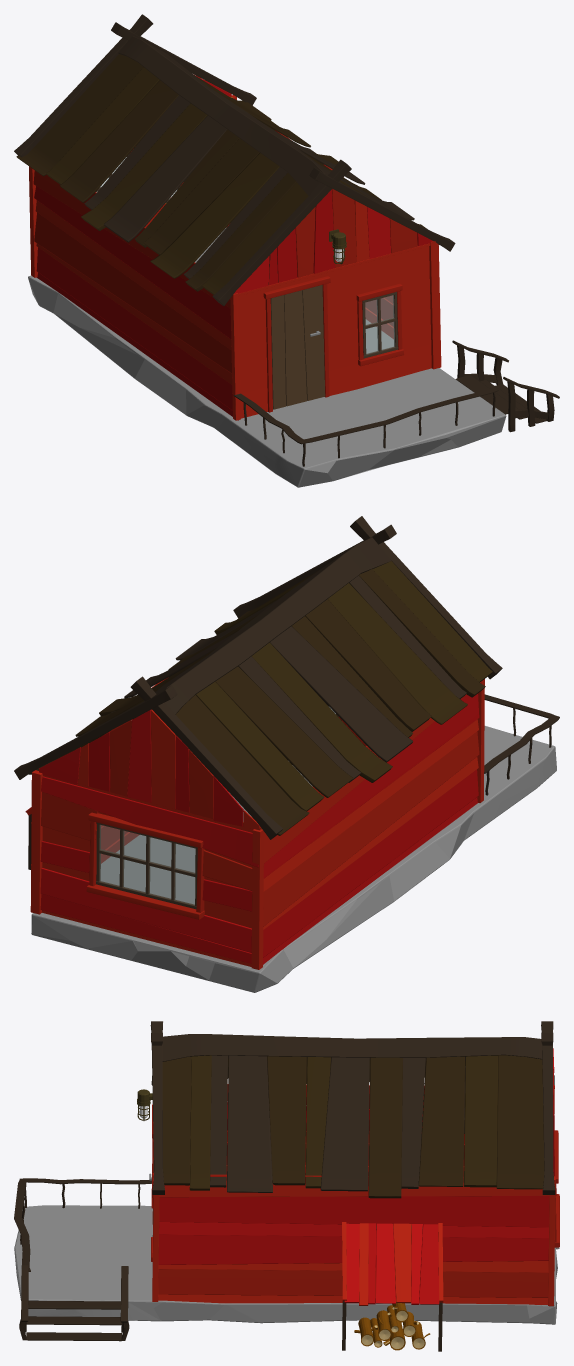
File: Cabin_v002.fbx
3 renders of one model, top to bottom at view 1: azimuth 30°, elevation 25°; view 2: azimuth 150°, elevation 25°; view 3: azimuth 270°, elevation 25°, orthographic. The views are drawn at different scales.
Parts seen in each view (by area): view 1: Roof, Walls, Ground_Floor, Door4, Window2; view 2: Walls, Roof, Ground_Floor, Window3; view 3: Roof, Walls, Ground_Floor, PileOfWood.
Part boxes in pixels (x1,y1,x2,y2): Roof: [14, 14, 455, 305]; Walls: [29, 75, 441, 420]; Ground_Floor: [28, 227, 559, 487]; Door4: [270, 285, 325, 409]; Window2: [362, 292, 398, 358]; Walls: [25, 677, 484, 969]; Roof: [14, 516, 502, 839]; Ground_Floor: [31, 694, 559, 992]; Window3: [96, 822, 197, 909]; Roof: [150, 1021, 555, 1198]; Walls: [151, 1048, 559, 1351]; Ground_Floor: [14, 1178, 559, 1341]; PileOfWood: [354, 1301, 430, 1350].
Size of the model in its own units: 29.25 by 23.9 by 47.15.
